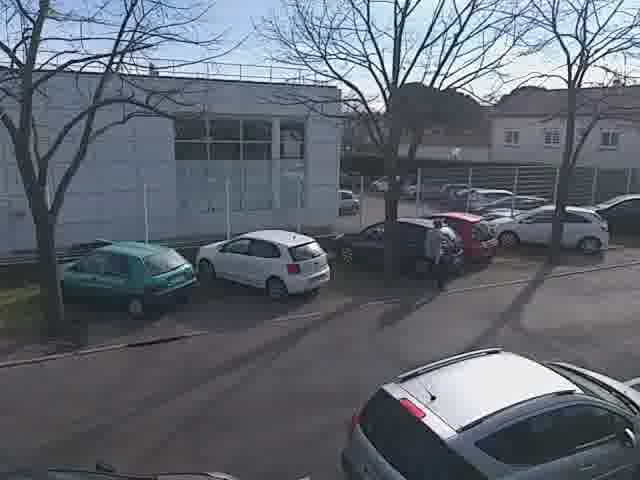persona: (415, 211, 453, 296)
